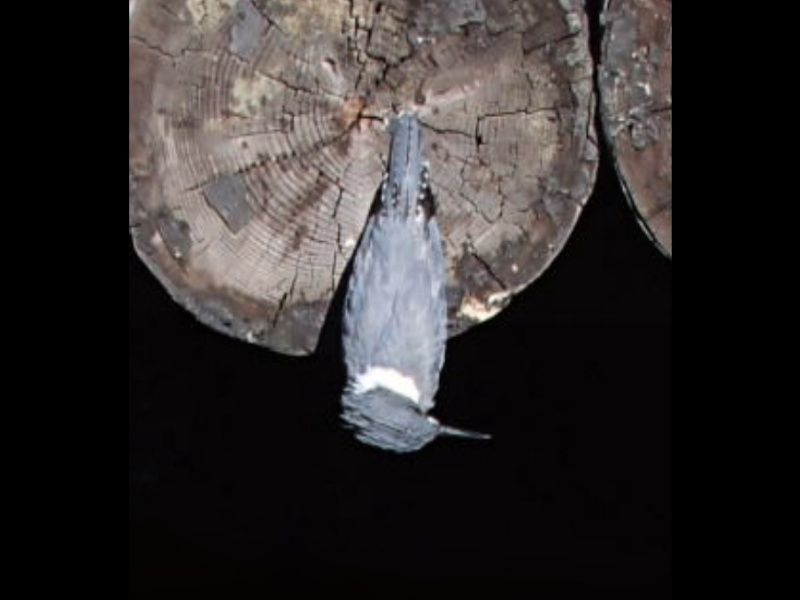kingfisher: (340, 123, 498, 463)
